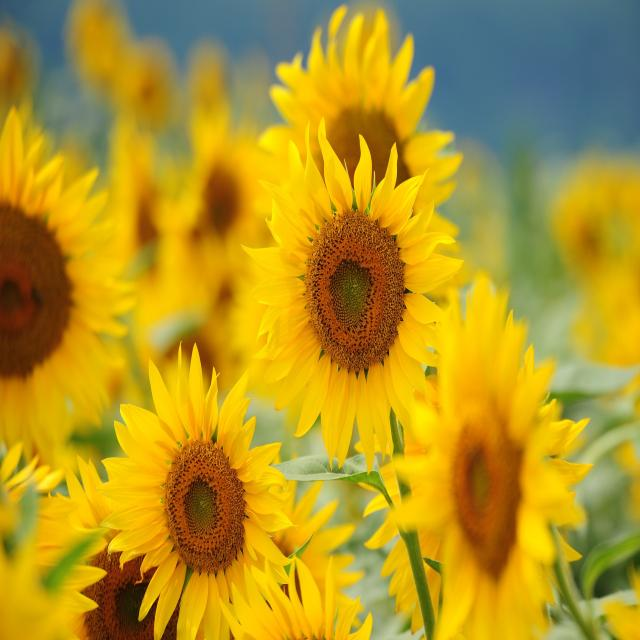sunflower: (227, 105, 462, 498), (381, 261, 591, 640), (92, 354, 308, 640), (254, 9, 464, 237), (0, 122, 128, 464)
